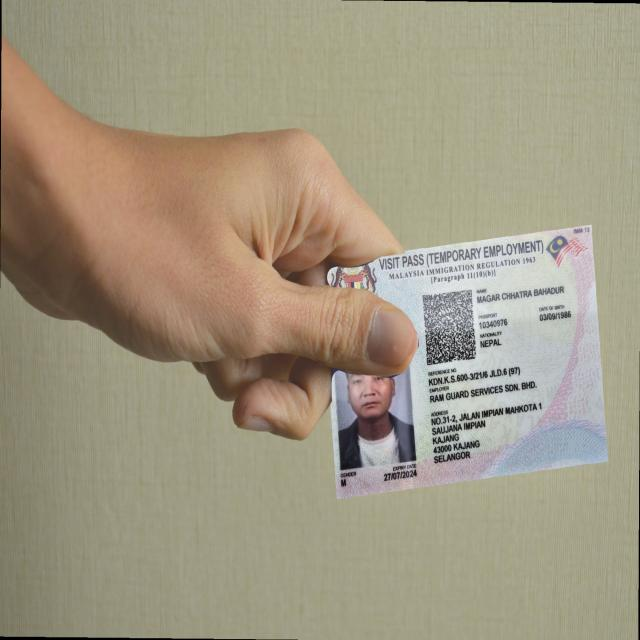ikad-temp: (326, 223, 608, 498)
